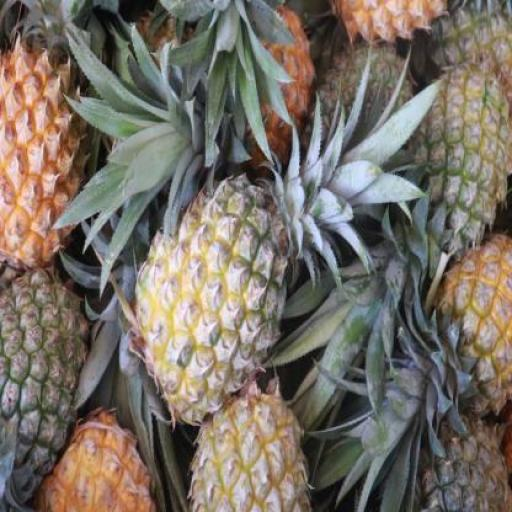------------------------------: (134, 170, 287, 418), (412, 59, 512, 255), (186, 384, 309, 512)
Pineapple - v8 v1: (0, 41, 86, 280), (33, 411, 160, 512)
